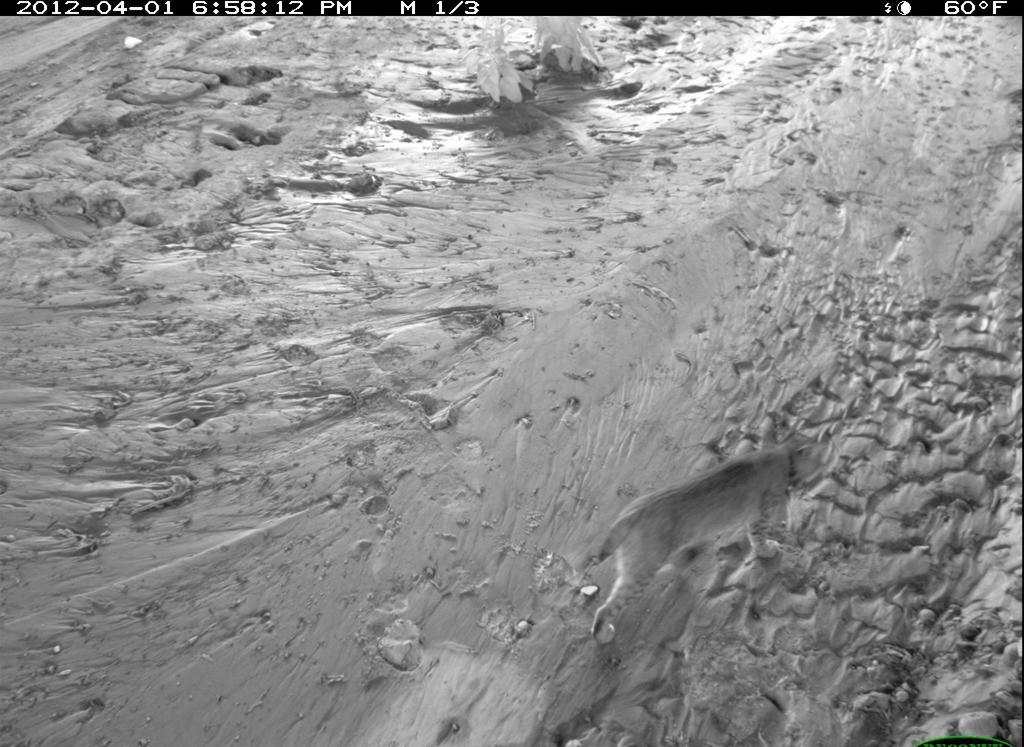bobcat: (575, 433, 840, 649)
